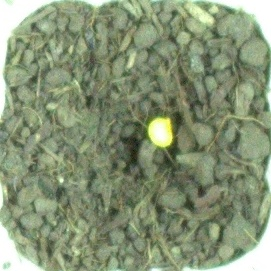chilli seed: (146, 115, 174, 148)
